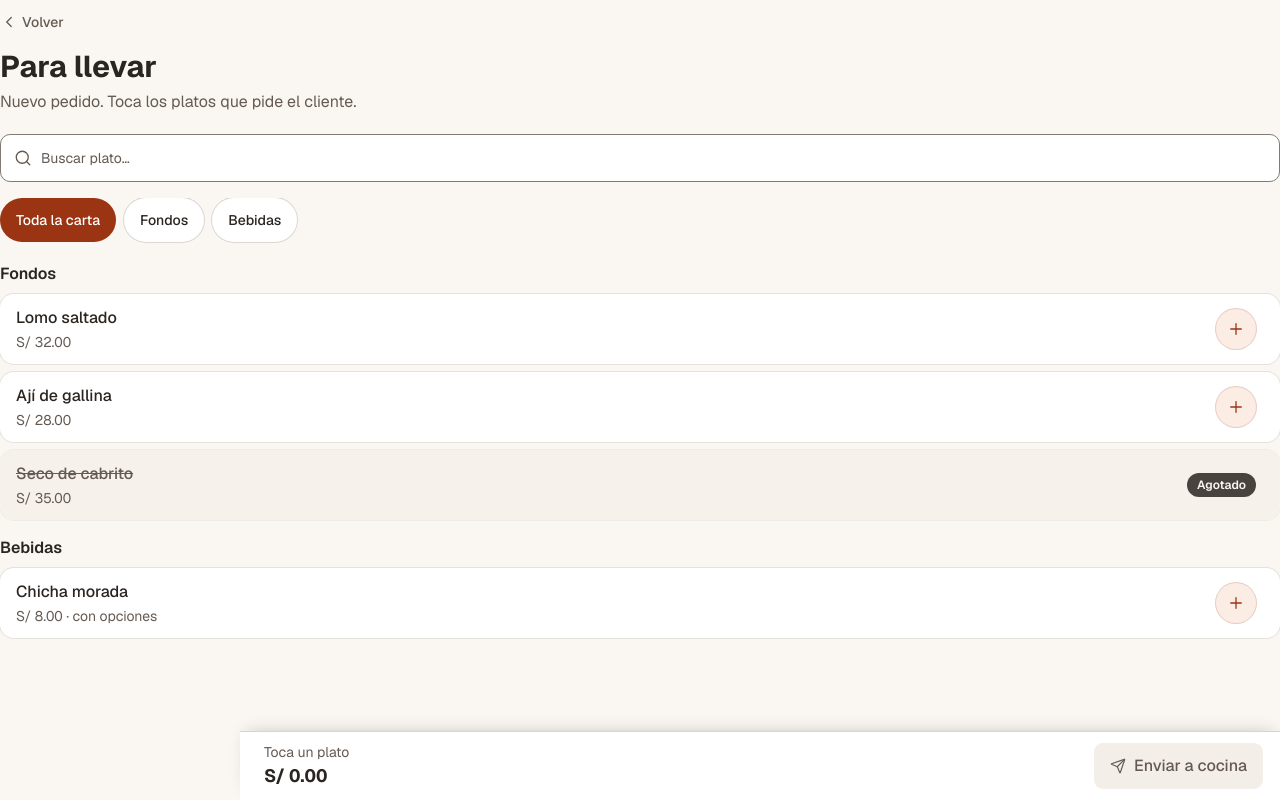
Test: la carta para tomar el pedido › la búsqueda encuentra el plato sin tildes y avisa si nada coincide
The image size is (1280, 800).
Type "aji" into the search field labelled "Buscar plato".
click(640, 158); type("aji")  # box x1=0 y1=134 x2=1279 y2=182
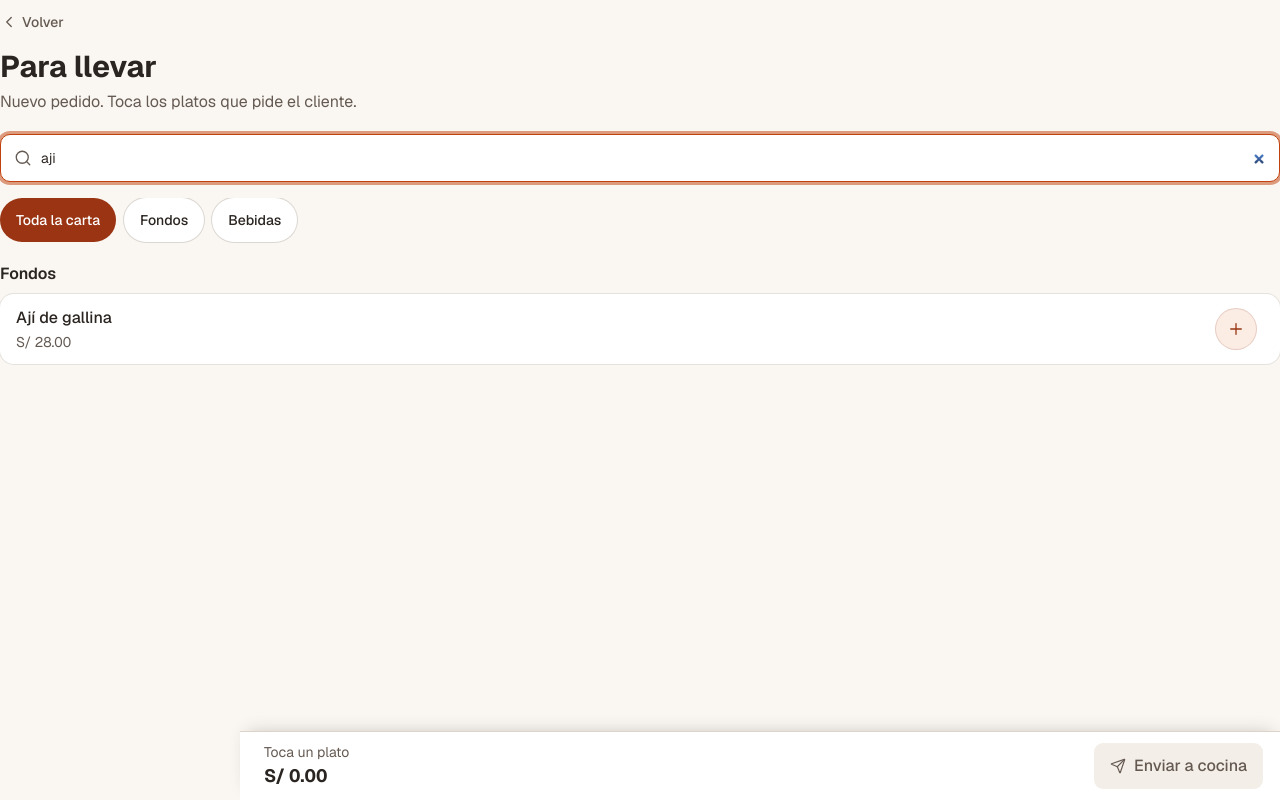
Expected: the button "Ají de gallina S/ 28.00" is shown, x1=0 y1=294 x2=1272 y2=364
Result: the button "Lomo saltado" is gone
Replace the text in the search field named "Buscar plato" with "pizza" at (640, 158), box x1=0 y1=134 x2=1279 y2=182
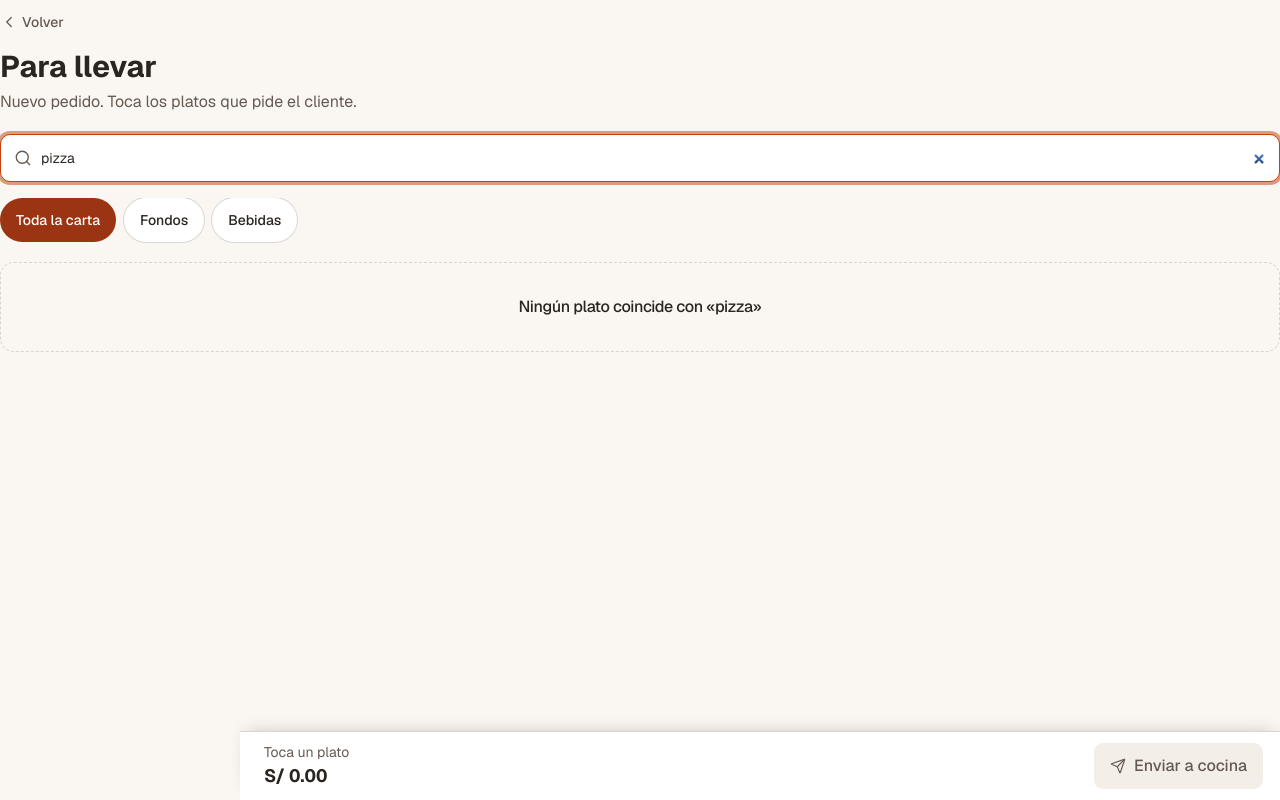
Result: the text "Ningún plato coincide con «pizza»" is shown at x1=519 y1=294 x2=761 y2=318
